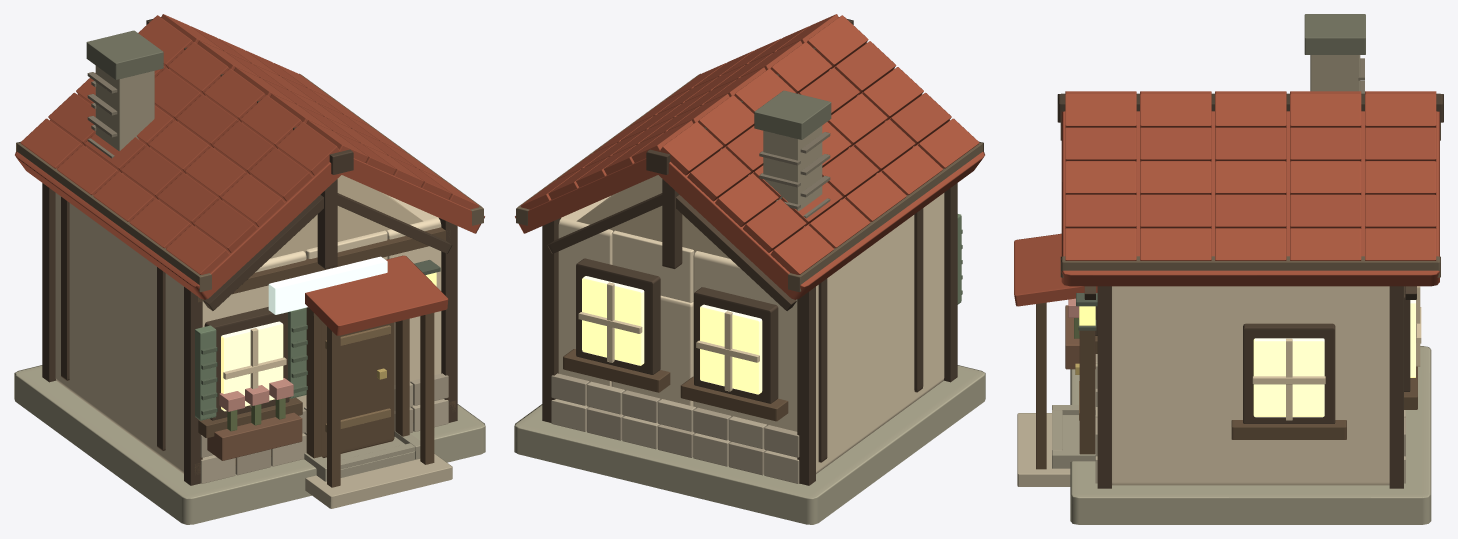
Rendered from workshop-0-0.glb.
The picture shows the model from 3 angles, left to right: view 1: azimuth 30°, elevation 25°; view 2: azimuth 150°, elevation 25°; view 3: azimuth 270°, elevation 25°; orthographic projection. The views are drawn at different scales.
Parts seen in each view (by area): view 1: workshop-0-0, door-hinge; view 2: workshop-0-0; view 3: workshop-0-0.
Part boxes in pixels (x1=…): workshop-0-0: x1=14, y1=14, x2=485, y2=524; door-hinge: x1=321, y1=320, x2=394, y2=457; workshop-0-0: x1=514, y1=14, x2=985, y2=524; workshop-0-0: x1=1014, y1=14, x2=1443, y2=524.
Size of the model in its own units: 1.88 by 2.19 by 2.24.
